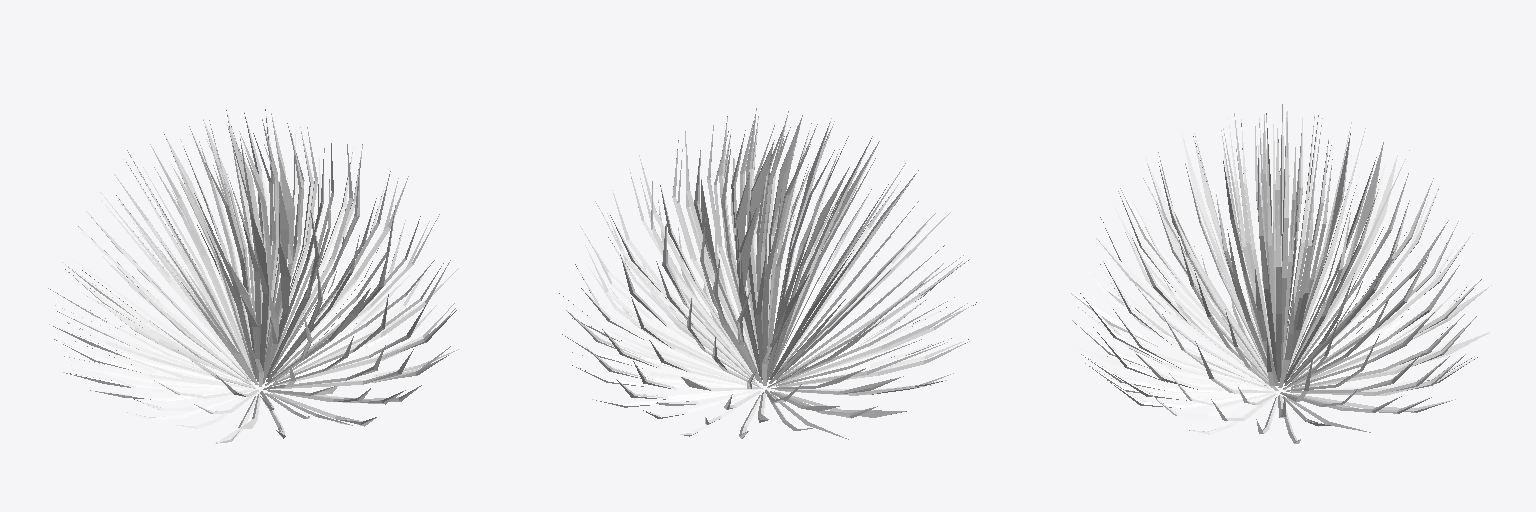
Rendered from Hedgehog_Agave_Model_0.obj.
The picture shows the model from 3 angles: view 1: azimuth 30°, elevation 25°; view 2: azimuth 150°, elevation 25°; view 3: azimuth 270°, elevation 25°; orthographic projection.
Parts seen in each view (by area): view 1: Foliage; view 2: Foliage; view 3: Foliage.
Part boxes in pixels (x1,y1,x2,y2): Foliage: (48,109,458,443); Foliage: (559,108,976,439); Foliage: (1067,104,1491,443).
Bounding box in the file's own units: 2.14 × 1.5 × 2.17.